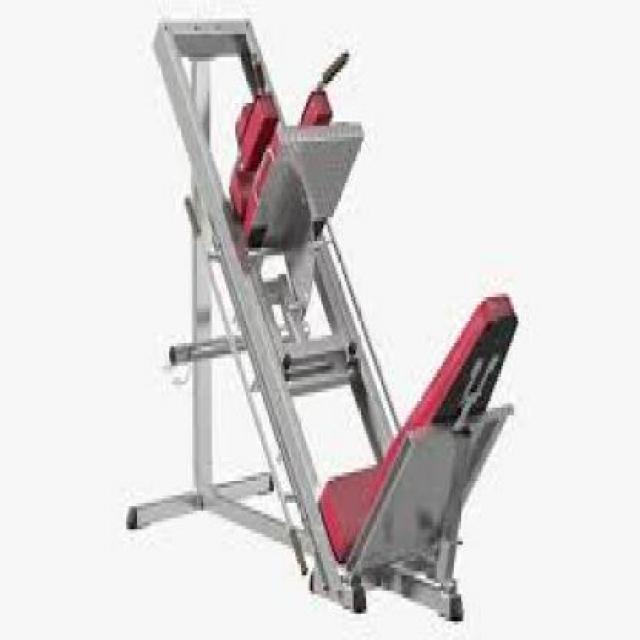leg press: (122, 9, 523, 640)
